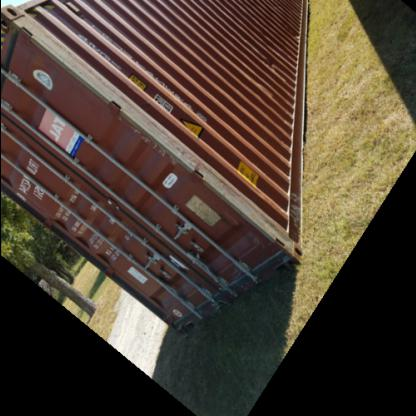Damage: (242, 51, 280, 76), (256, 1, 276, 42), (285, 20, 301, 44)
